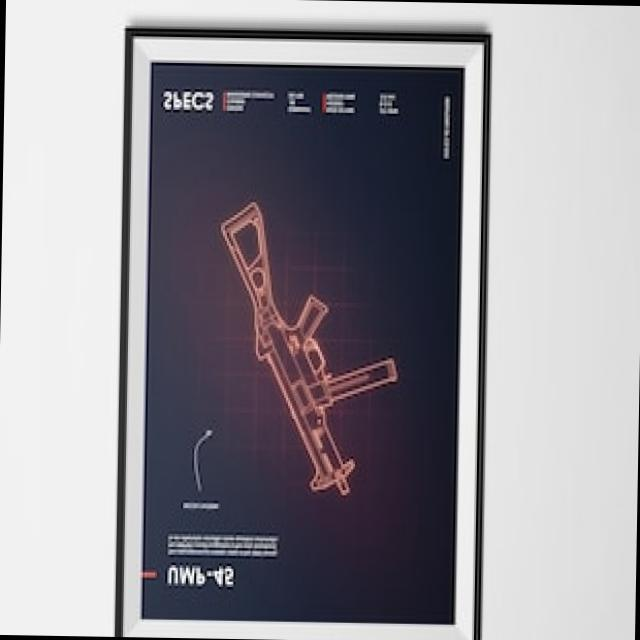Gun: (212, 193, 400, 502)
